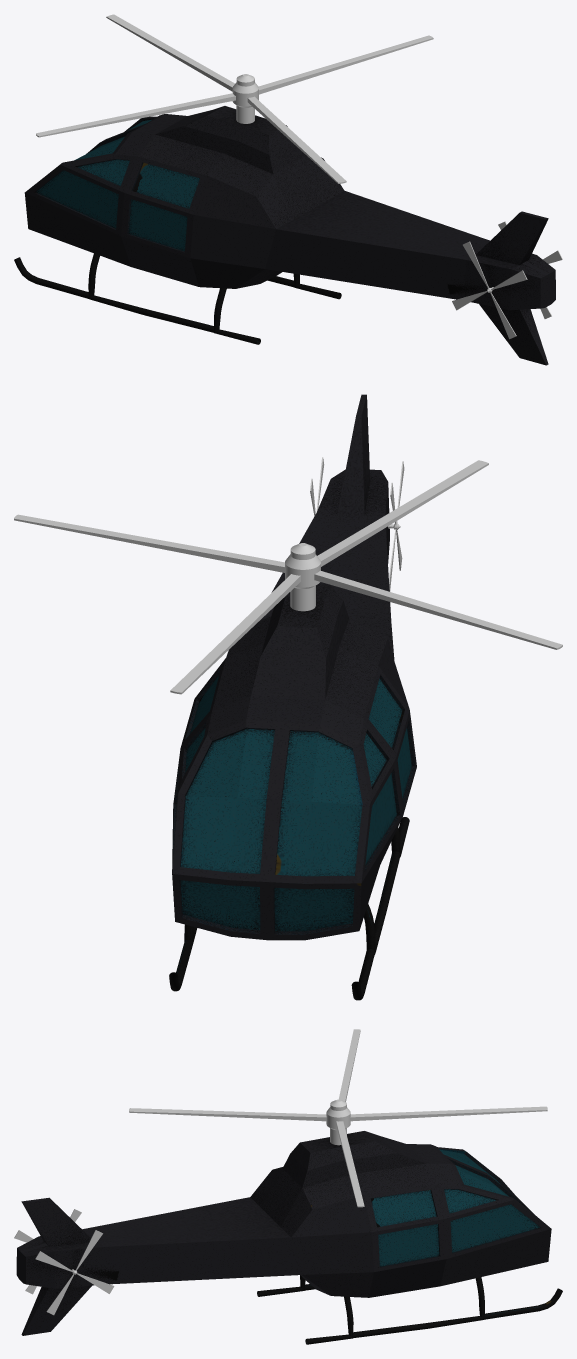
File: anim_000119.obj
3 views of the same model, one above another, from view 1: azimuth 30°, elevation 25°; view 2: azimuth 150°, elevation 25°; view 3: azimuth 270°, elevation 25° (orthographic). The views are drawn at different scales.
Visible parts, largest first — view 1: Helicopter.007_Cylinder.008, Helicopter.001_Cylinder.001, Helicopter.003_Cylinder.004; view 2: Helicopter.007_Cylinder.008, Helicopter.001_Cylinder.001; view 3: Helicopter.007_Cylinder.008, Helicopter.001_Cylinder.001, Helicopter.004_Cylinder.005.
Part boxes in pixels (bbox=[...]): Helicopter.007_Cylinder.008: bbox=[14, 106, 555, 365]; Helicopter.001_Cylinder.001: bbox=[36, 14, 433, 183]; Helicopter.003_Cylinder.004: bbox=[452, 241, 527, 339]; Helicopter.007_Cylinder.008: bbox=[169, 394, 416, 1000]; Helicopter.001_Cylinder.001: bbox=[14, 460, 562, 694]; Helicopter.007_Cylinder.008: bbox=[16, 1131, 562, 1344]; Helicopter.001_Cylinder.001: bbox=[129, 1029, 547, 1207]; Helicopter.004_Cylinder.005: bbox=[35, 1230, 114, 1315].
Bounding box in the file's own units: 5.58 × 3.21 × 7.31.
